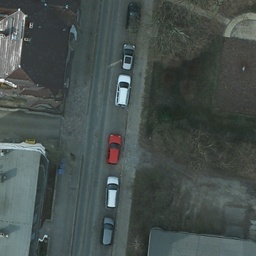car: (123, 2, 143, 33), (120, 43, 135, 72), (107, 134, 122, 163), (113, 76, 128, 105), (105, 176, 118, 207), (101, 217, 114, 245)
